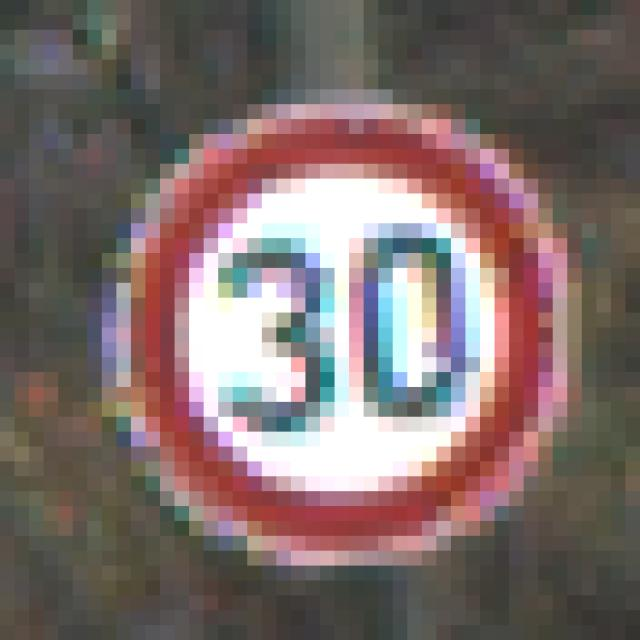Speed Limit -30-: (80, 67, 545, 543)
